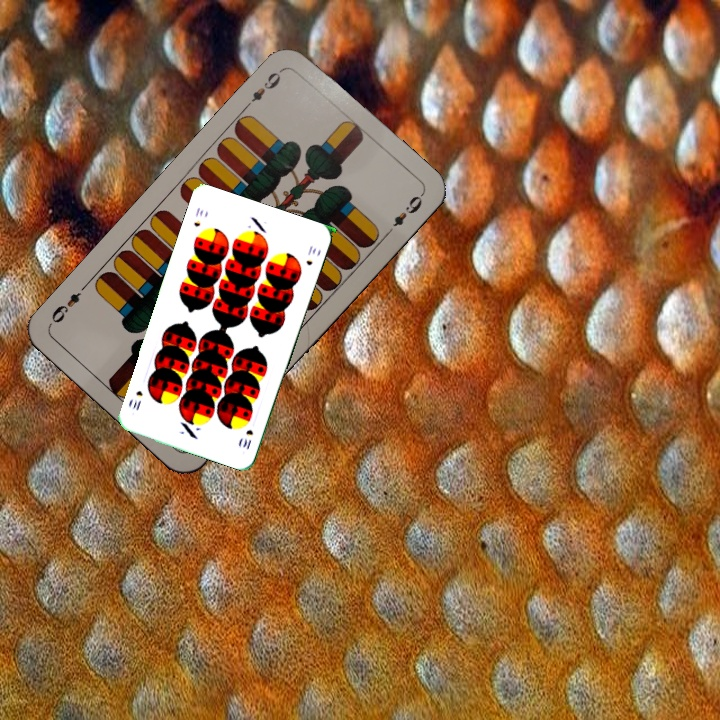E9: (240, 64, 287, 111)
S10: (239, 425, 256, 452), (190, 203, 206, 229)
